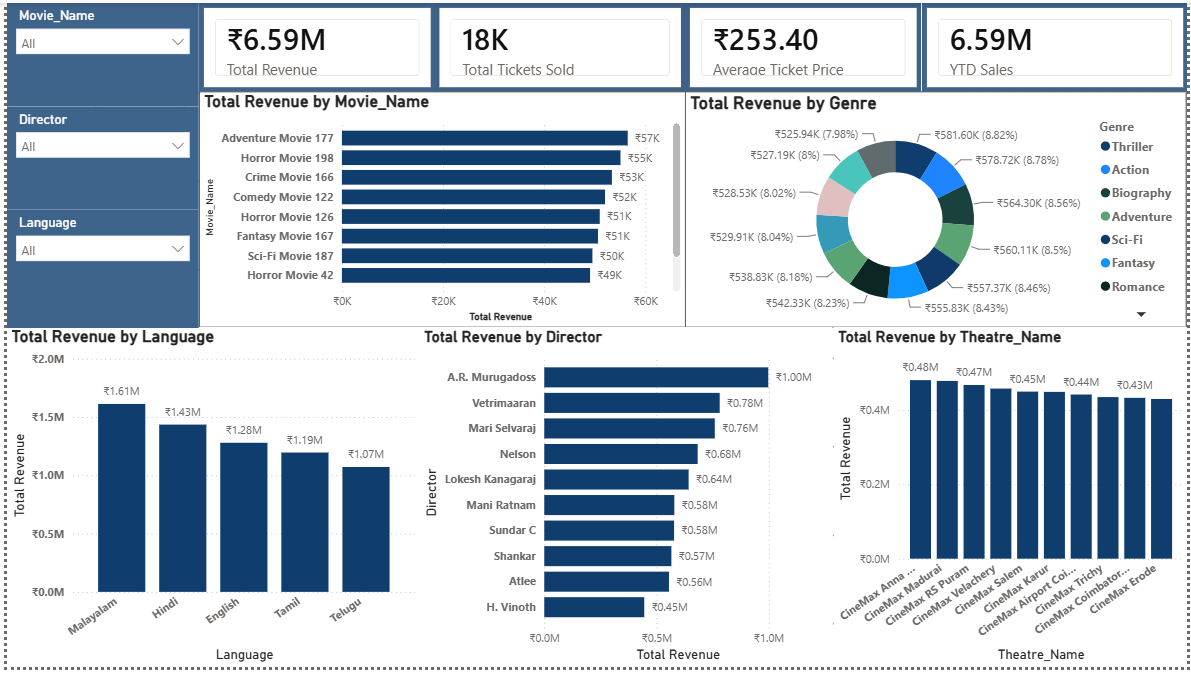

Layout of this report page (visuals, bound fields, positions):
{"tool":"powerbi","page":{"name":"Revenue Analysis","canvas":[1280,720],"ordinal":1},"visuals":[{"type":"cardVisual","fields":{"Data":["Fact_Ticket_Sales.Total Revenue"]},"box":[208,0,256,96],"z":0},{"type":"cardVisual","fields":{"Data":["Dim_Category.Total Tickets Sold"]},"box":[464,0,272,96],"z":1000},{"type":"cardVisual","fields":{"Data":["Dim_Category.YTD Sales"]},"box":[992,0,288,96],"z":2000},{"type":"cardVisual","fields":{"Data":["Dim_Category.Average Ticket Price"]},"box":[736,0,256,96],"z":3000},{"type":"barChart","fields":{"Category":["Dim_Movie.Movie_Name"],"Y":["Fact_Ticket_Sales.Total Revenue"]},"box":[208,96,528,256],"z":4000},{"type":"donutChart","fields":{"Category":["Dim_Category.Genre"],"Y":["Fact_Ticket_Sales.Total Revenue"]},"box":[736,96,544,256],"z":5000},{"type":"clusteredColumnChart","fields":{"Category":["Dim_Movie.Language"],"Y":["Fact_Ticket_Sales.Total Revenue"]},"box":[0,352,448,368],"z":6000},{"type":"barChart","fields":{"Category":["Dim_Movie.Director"],"Y":["Fact_Ticket_Sales.Total Revenue"]},"box":[448,352,448,368],"z":7000},{"type":"columnChart","fields":{"Category":["Dim_Theatre.Theatre_Name"],"Y":["Fact_Ticket_Sales.Total Revenue"]},"box":[896,352,384,368],"z":8000},{"type":"slicer","fields":{"Values":["Dim_Movie.Movie_Name"]},"box":[0,0,208,112],"z":9000},{"type":"slicer","fields":{"Values":["Dim_Movie.Director"]},"box":[0,112,208,112],"z":10000},{"type":"slicer","fields":{"Values":["Dim_Show.Language"]},"box":[0,224,208,128],"z":11000}]}

Visuals, with their boxes in screenshot pixels (x1, y1, x2, y2), scaled from the page's 1280x720 canvas onto the 1191x676 screenshot:
cardVisual - Fact_Ticket_Sales.Total Revenue: left=194, top=0, right=432, bottom=90
cardVisual - Dim_Category.Total Tickets Sold: left=432, top=0, right=685, bottom=90
cardVisual - Dim_Category.YTD Sales: left=923, top=0, right=1190, bottom=90
cardVisual - Dim_Category.Average Ticket Price: left=685, top=0, right=923, bottom=90
barChart - Dim_Movie.Movie_Name x Fact_Ticket_Sales.Total Revenue: left=194, top=90, right=685, bottom=330
donutChart - Dim_Category.Genre x Fact_Ticket_Sales.Total Revenue: left=685, top=90, right=1190, bottom=330
clusteredColumnChart - Dim_Movie.Language x Fact_Ticket_Sales.Total Revenue: left=0, top=330, right=417, bottom=675
barChart - Dim_Movie.Director x Fact_Ticket_Sales.Total Revenue: left=417, top=330, right=834, bottom=675
columnChart - Dim_Theatre.Theatre_Name x Fact_Ticket_Sales.Total Revenue: left=834, top=330, right=1190, bottom=675
slicer - Dim_Movie.Movie_Name: left=0, top=0, right=194, bottom=105
slicer - Dim_Movie.Director: left=0, top=105, right=194, bottom=210
slicer - Dim_Show.Language: left=0, top=210, right=194, bottom=330
